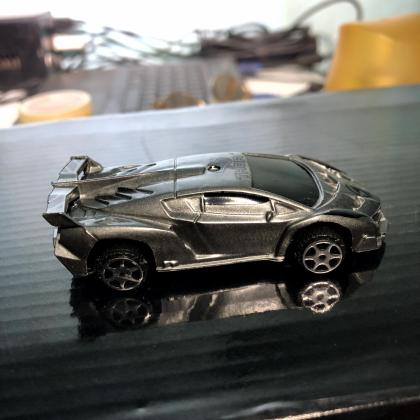Car: (42, 152, 387, 293)
